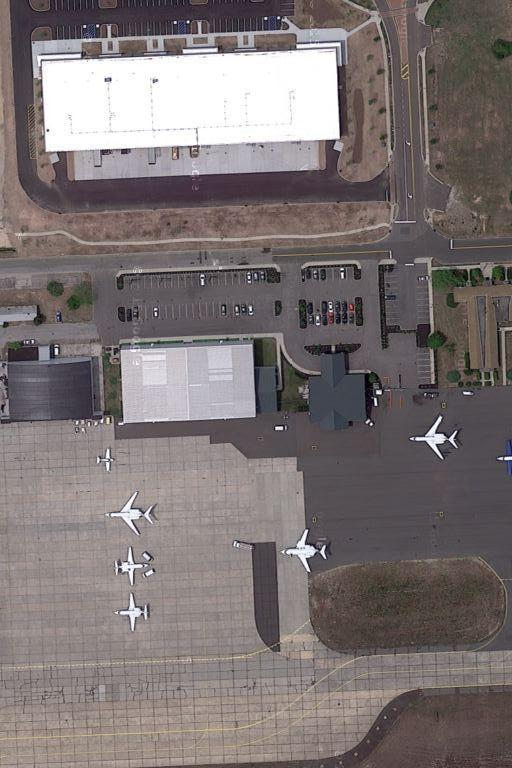A-10: (108, 542, 151, 587), (115, 592, 155, 633)
plane: (106, 489, 158, 542), (410, 412, 462, 460), (279, 530, 333, 575)
